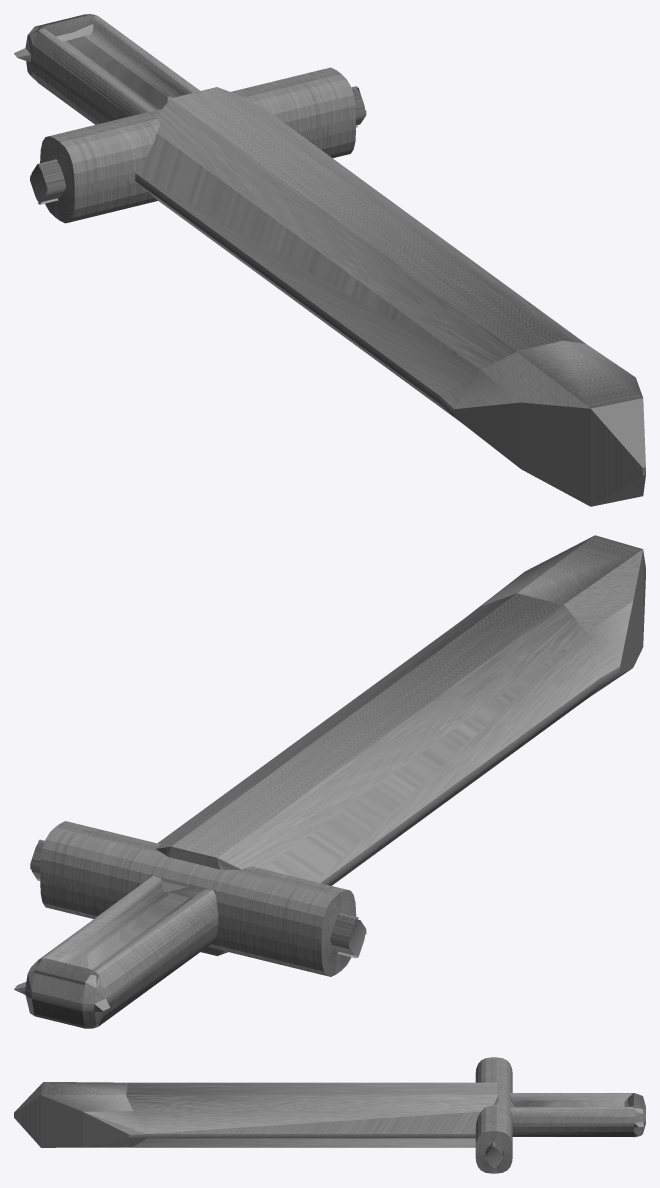
Rendered from IronObject.DAE.
3 views of the same model, one above another, from view 1: azimuth 30°, elevation 25°; view 2: azimuth 150°, elevation 25°; view 3: azimuth 270°, elevation 25° (orthographic). The views are drawn at different scales.
Parts seen in each view (by area): view 1: Box002; view 2: Box002; view 3: Box002.
Boxes of the visible parts, x1=… form: Box002: x1=14, y1=14, x2=645, y2=506; Box002: x1=14, y1=535, x2=645, y2=1028; Box002: x1=14, y1=1057, x2=645, y2=1173.
Size of the model in its own units: 3.35 by 10.68 by 0.9843.
1 material, 1 textured.
